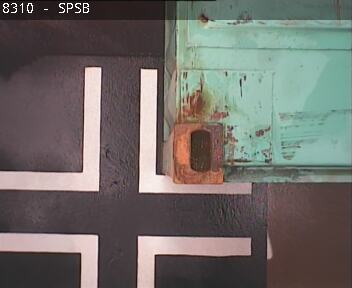groundmarker_1: (1, 68, 248, 195), (1, 232, 251, 288)
